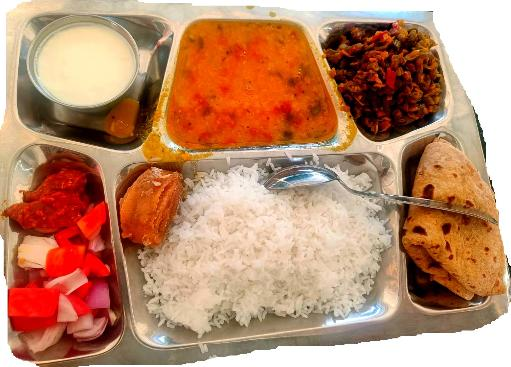Curd: (23, 13, 155, 114)
Dal: (165, 20, 328, 149)
Pickle: (10, 163, 73, 230)
Rice: (135, 171, 396, 322)
Roti: (406, 142, 505, 304)
Salad: (12, 233, 119, 350)
Sweet: (117, 165, 185, 247)
Vegetable: (336, 23, 450, 127)
